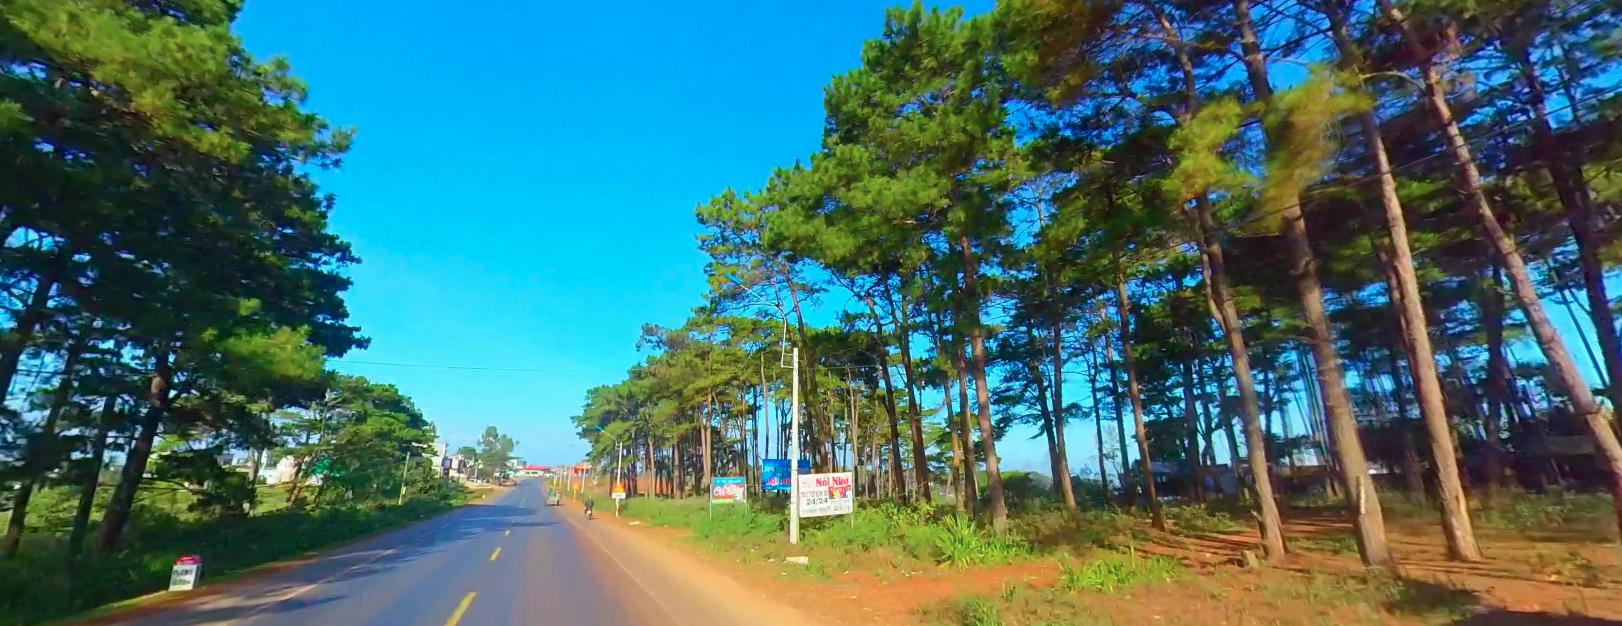Nguy hiem: (611, 481, 625, 491), (570, 481, 579, 488)
